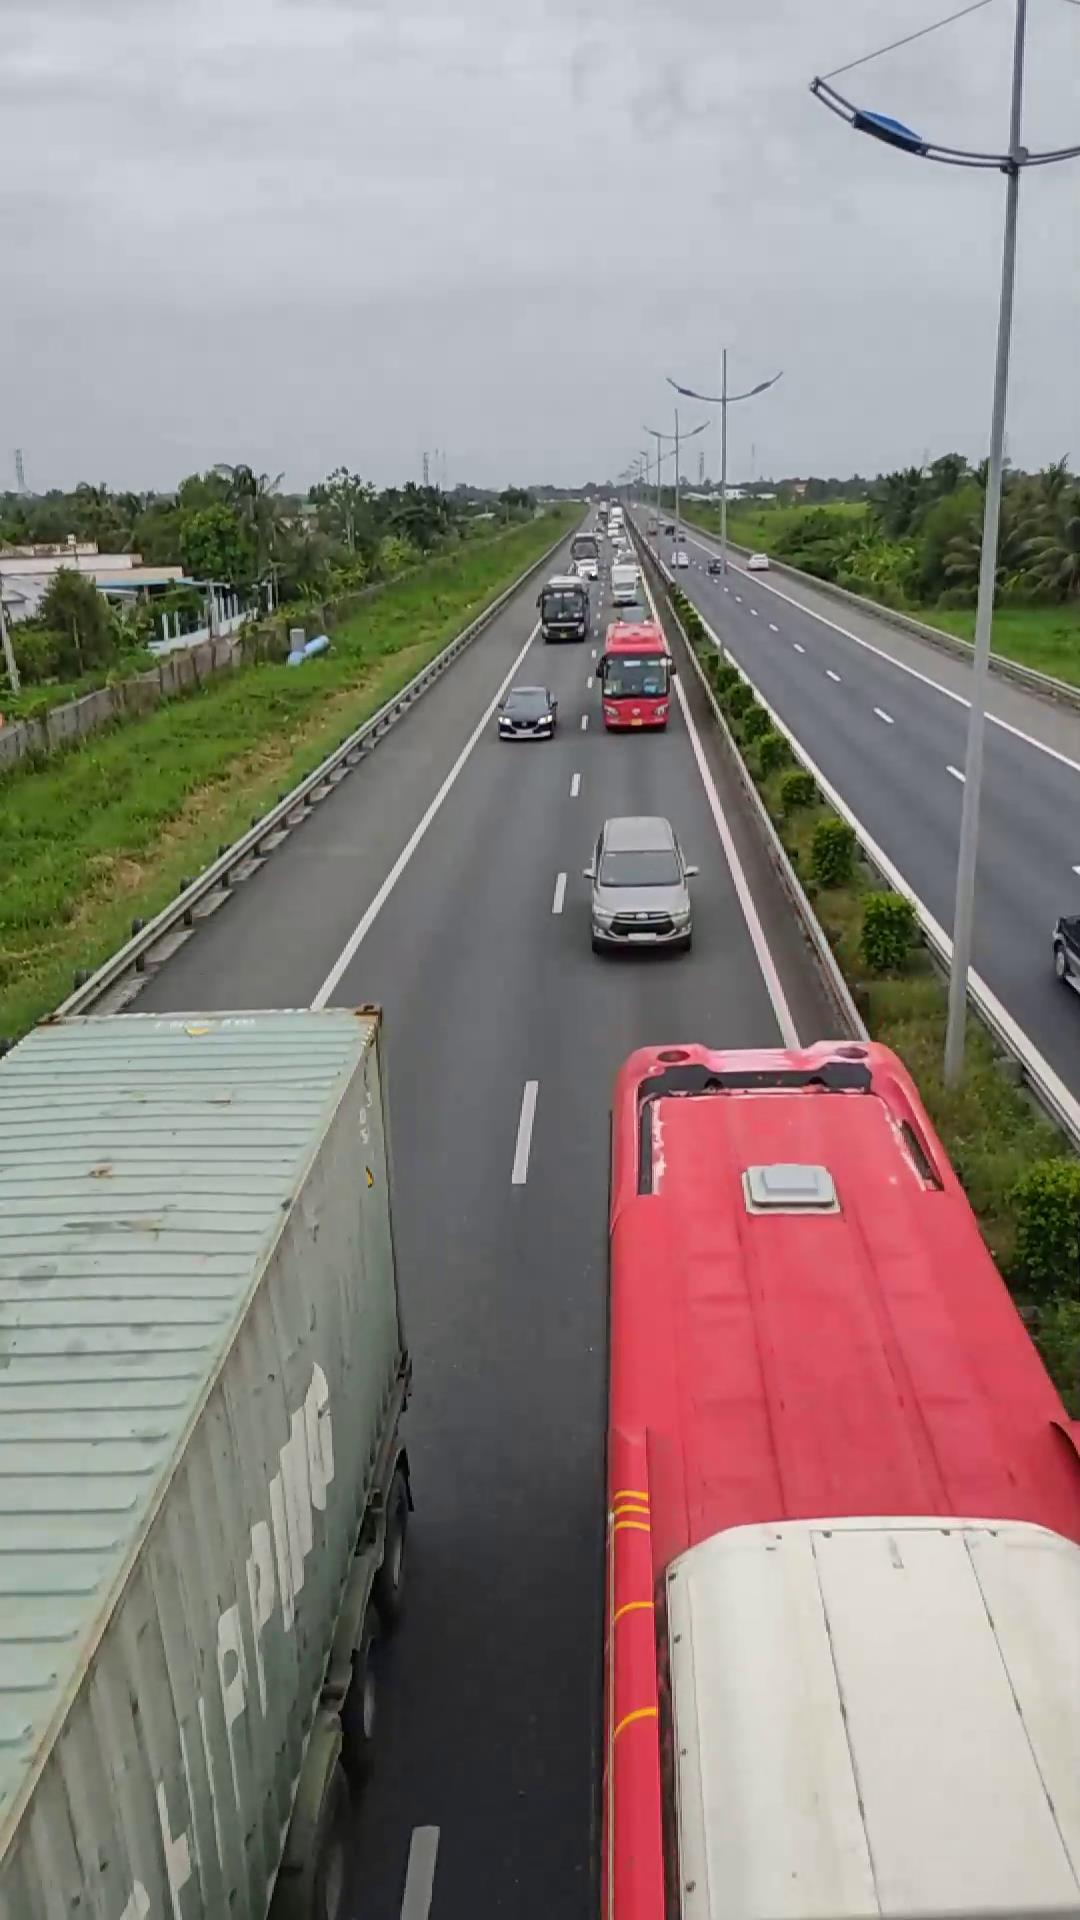bus: (606, 1036, 1080, 1901)
car: (585, 815, 696, 952)
container: (0, 1001, 427, 1915)
